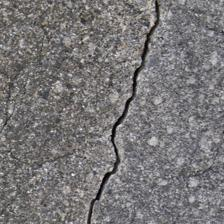Crack: (42, 2, 126, 220)
